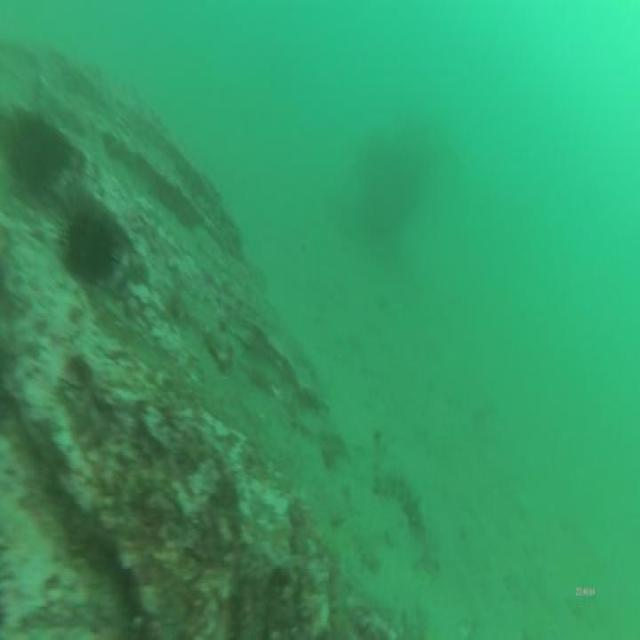echinus: (6, 109, 70, 202), (55, 202, 122, 289)
holothurian: (372, 464, 428, 540)
